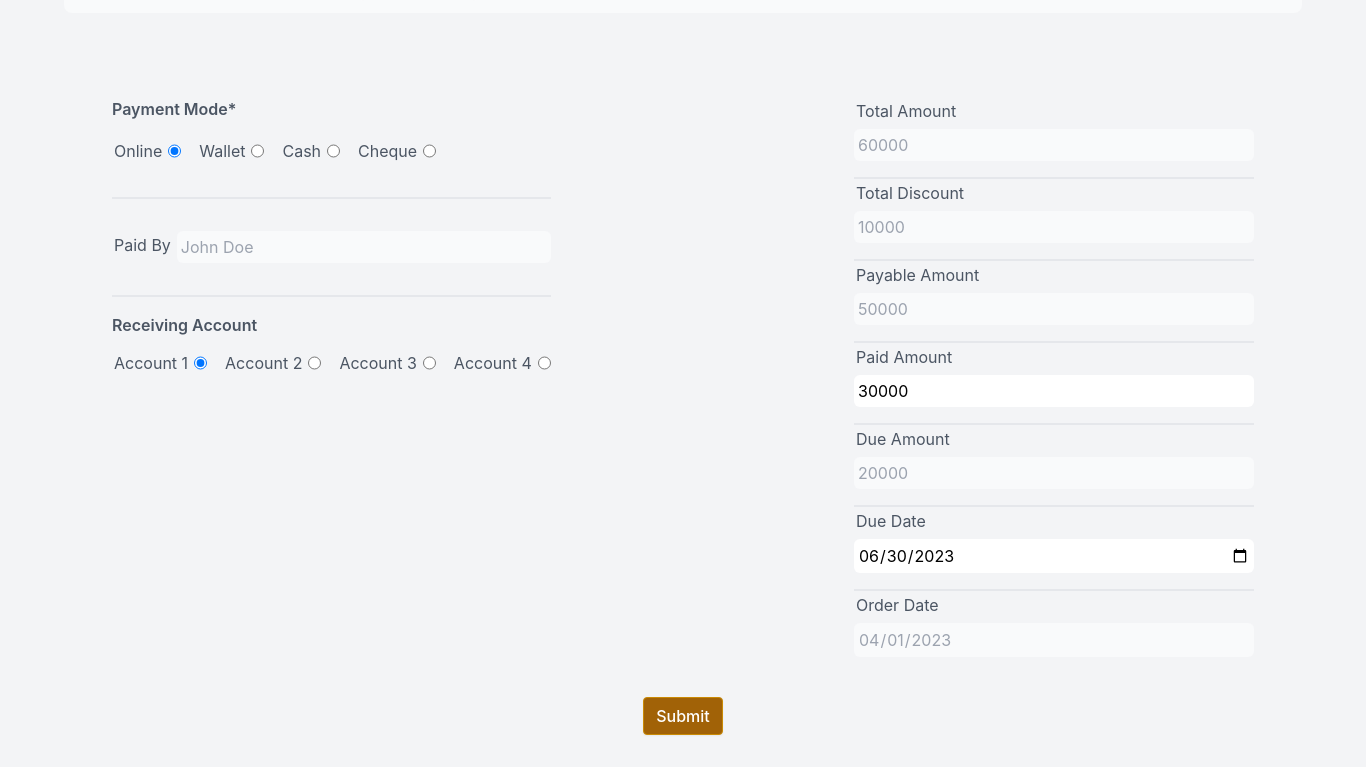
Scenario: EditOrder Component › when paid amount is updated, due amount should be updated automatically
(page scrolled)
Expected: the number field labelled "Due Amount" holds "20000", left=854, top=457, right=1254, bottom=489
Replace the text in the number field labelled "Paid Amount" with "40000" at (1054, 391), box left=854, top=375, right=1254, bottom=407
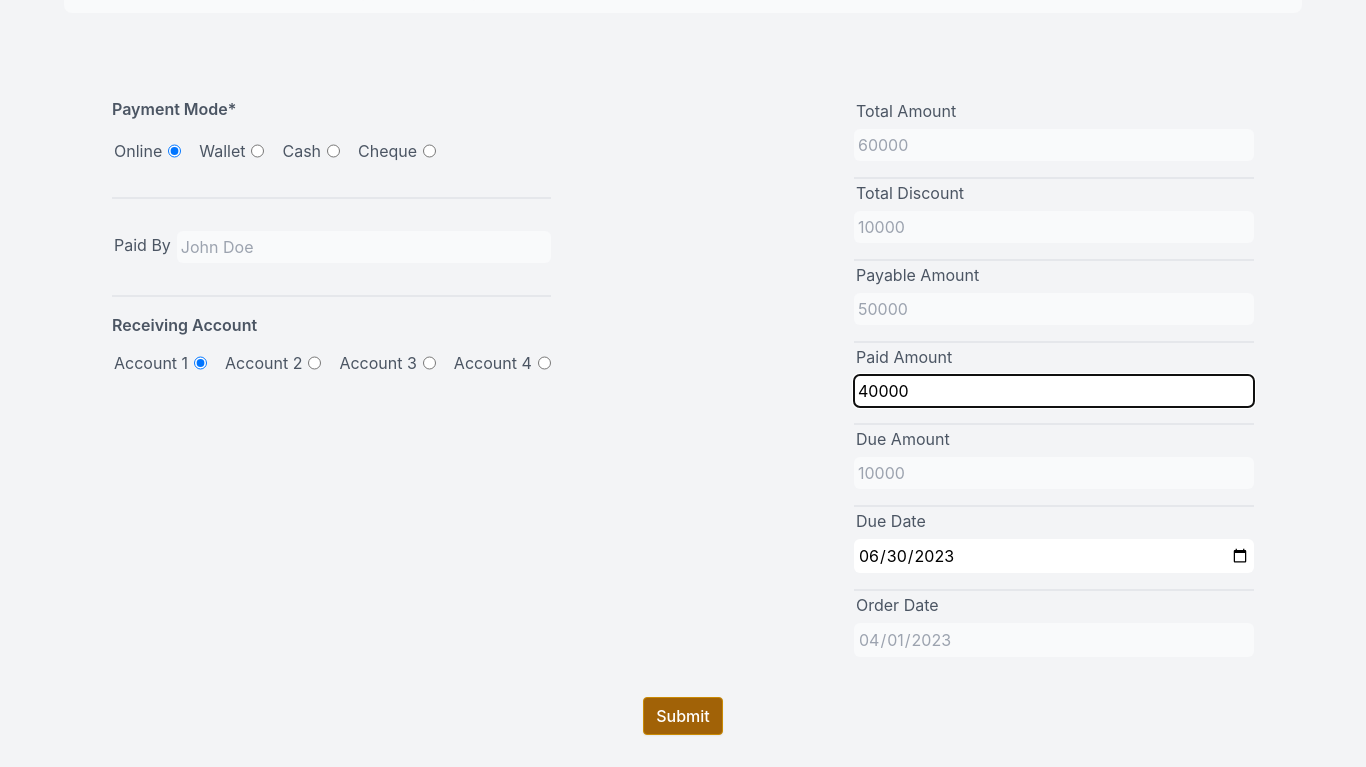
Expected: the number field labelled "Due Amount" holds "10000", left=854, top=457, right=1254, bottom=489
